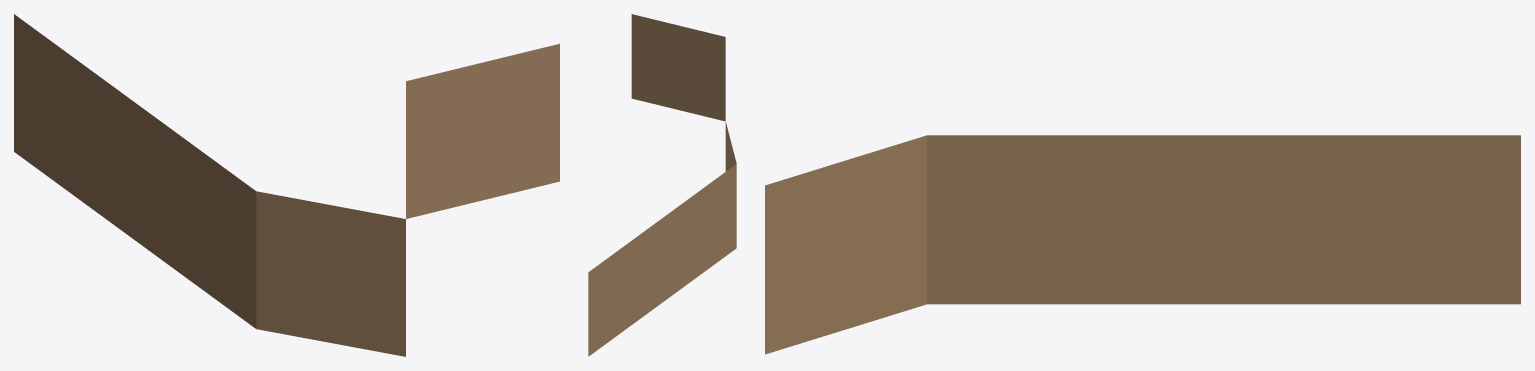
Rendered from 1293-Buildings-shell-pieces-facade-bay-wall-round-an-opening-reveals-sill-head-emitBa.glb.
The picture shows the model from 3 angles, left to right: view 1: azimuth 30°, elevation 25°; view 2: azimuth 150°, elevation 25°; view 3: azimuth 270°, elevation 25°; orthographic projection. The views are drawn at different scales.
Visible parts, largest first — view 1: emitBay; view 2: emitBay; view 3: emitBay.
Boxes of the visible parts, x1=… form: emitBay: x1=14, y1=14, x2=559, y2=356; emitBay: x1=588, y1=14, x2=736, y2=356; emitBay: x1=765, y1=135, x2=1520, y2=354.
Size of the model in its own units: 5.5 by 6.1 by 12.35.
